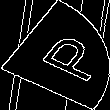P_NW: (13, 26, 97, 84)
